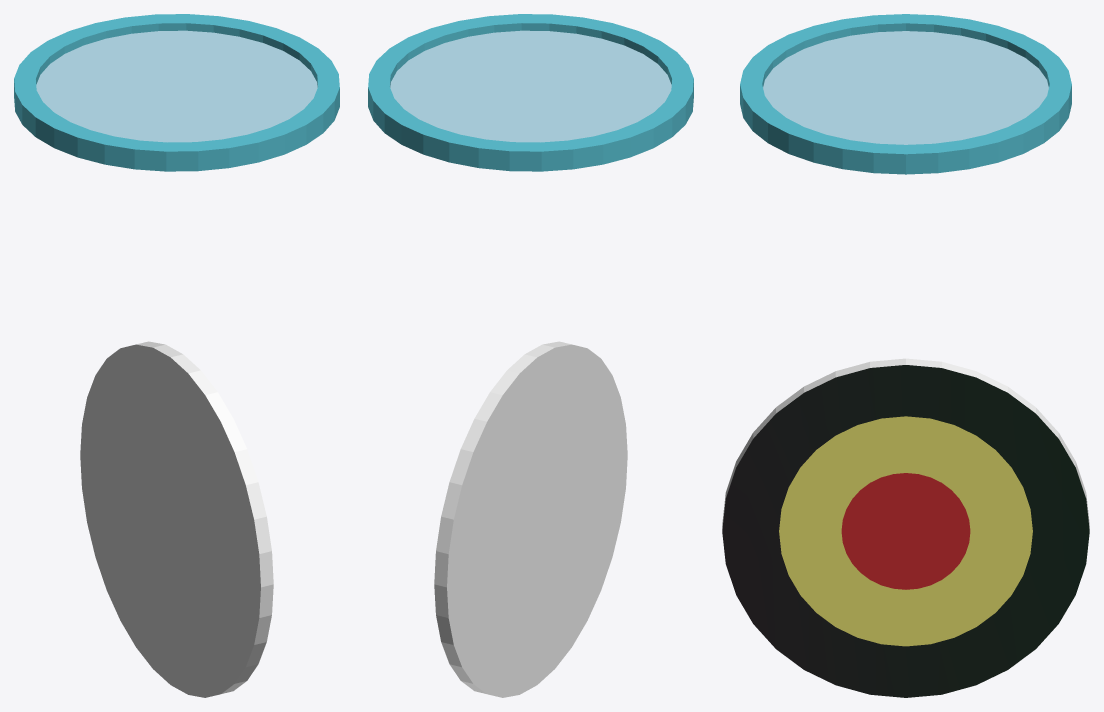
The model's file is forpokey.fbx.
3 views of the same model, side by side, from view 1: azimuth 30°, elevation 25°; view 2: azimuth 150°, elevation 25°; view 3: azimuth 270°, elevation 25° (orthographic).
Parts seen in each view (by area): view 1: Cylinder, Cylinder.001; view 2: Cylinder, Cylinder.001; view 3: Cylinder, Cylinder.001.
Part boxes in pixels (x1=…): Cylinder: x1=80, y1=341, x2=273, y2=697; Cylinder.001: x1=14, y1=14, x2=339, y2=171; Cylinder: x1=434, y1=341, x2=627, y2=697; Cylinder.001: x1=368, y1=14, x2=693, y2=171; Cylinder: x1=722, y1=358, x2=1089, y2=697; Cylinder.001: x1=740, y1=14, x2=1071, y2=174.
Bounding box in the file's own units: 375 × 762 × 416.
